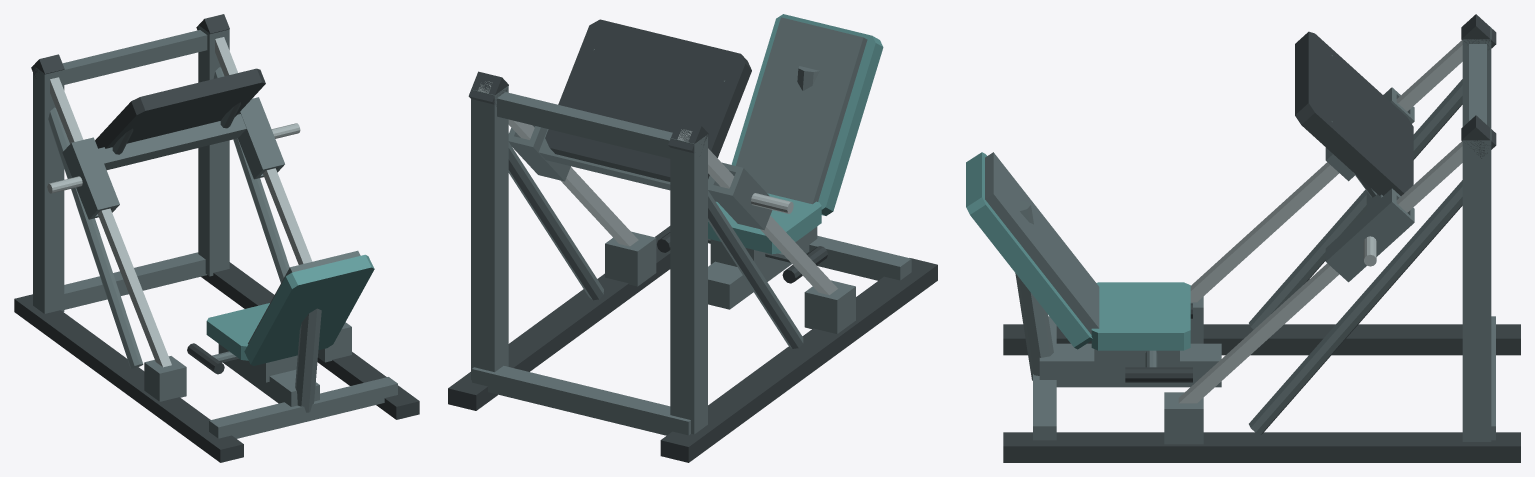
3 views of the same model, side by side, from view 1: azimuth 30°, elevation 25°; view 2: azimuth 150°, elevation 25°; view 3: azimuth 270°, elevation 25° (orthographic). The views are drawn at different scales.
Parts seen in each view (by area): view 1: WholeReclinedBackCushion, WholeLongGroundFoot-1, WholeUpperRailColumn-1, WholeAngledFootplate, WholeUpperRailColumn1, WholeGroundCrossTieFront, WholeLongGroundFoot1, WholeInclinedGuideRail-1, WholeUpperTransverseBrace, WholeColumnDiagonal-1, WholeCarriageCrossmember, WholeGroundCrossTieRear (+14 smaller); view 2: WholeAngledFootplate, WholeBackUnderplate, WholeUpperRailColumn-1, WholeUpperRailColumn1, WholeLongGroundFoot-1, WholeLongGroundFoot1, WholeGroundCrossTieRear, WholeUpperTransverseBrace, WholeReclinedBackCushion, WholeColumnDiagonal1, WholeColumnDiagonal-1, WholeGroundCrossTieFront (+14 smaller); view 3: WholeLongGroundFoot1, WholeAngledFootplate, WholeUpperRailColumn1, WholeLongGroundFoot-1, WholeShortSeatCushion, WholeBackUnderplate, WholeColumnDiagonal1, WholeReclinedBackCushion, WholeInclinedGuideRail1, WholeInclinedGuideRail-1, WholeSeatLongitudinalBed, WholeColumnDiagonal-1 (+13 smaller).
Part boxes in pixels (x1,y1,x2,y2): WholeReclinedBackCushion: (244,254,374,365); WholeLongGroundFoot-1: (14,294,243,462); WholeUpperRailColumn-1: (33,66,64,313); WholeAngledFootplate: (95,68,265,148); WholeUpperRailColumn1: (198,25,229,276); WholeGroundCrossTieFront: (209,377,397,438); WholeLongGroundFoot1: (201,262,419,419); WholeInclinedGuideRail-1: (50,77,171,367); WholeUpperTransverseBrace: (62,30,207,84); WholeColumnDiagonal-1: (48,107,143,368); WholeCarriageCrossmember: (98,114,246,169); WholeGroundCrossTieRear: (64,252,206,309); WholeAngledFootplate: (545,19,751,181); WholeBackUnderplate: (736,17,867,204); WholeUpperRailColumn-1: (670,134,707,434); WholeUpperRailColumn1: (471,85,508,380); WholeLongGroundFoot-1: (660,258,937,462); WholeLongGroundFoot1: (448,226,670,410); WholeGroundCrossTieRear: (472,366,690,435); WholeUpperTransverseBrace: (497,92,672,158); WholeReclinedBackCushion: (731,14,883,215); WholeColumnDiagonal1: (508,142,603,300); WholeColumnDiagonal-1: (708,190,803,348); WholeGroundCrossTieFront: (806,235,911,280); WholeLongGroundFoot1: (1003,432,1520,462); WholeAngledFootplate: (1295,31,1413,195); WholeUpperRailColumn1: (1462,128,1491,441); WholeLongGroundFoot-1: (1003,324,1520,355); WholeShortSeatCushion: (1091,282,1190,350); WholeBackUnderplate: (985,152,1099,334); WholeColumnDiagonal1: (1249,180,1462,434); WholeReclinedBackCushion: (966,152,1092,349); WholeInclinedGuideRail1: (1178,141,1462,403); WholeInclinedGuideRail-1: (1190,40,1462,302); WholeSeatLongitudinalBed: (1039,343,1221,387); WholeColumnDiagonal-1: (1249,79,1462,329).
Bounding box in the file's own units: 1.38 × 1.42 × 2.13.
